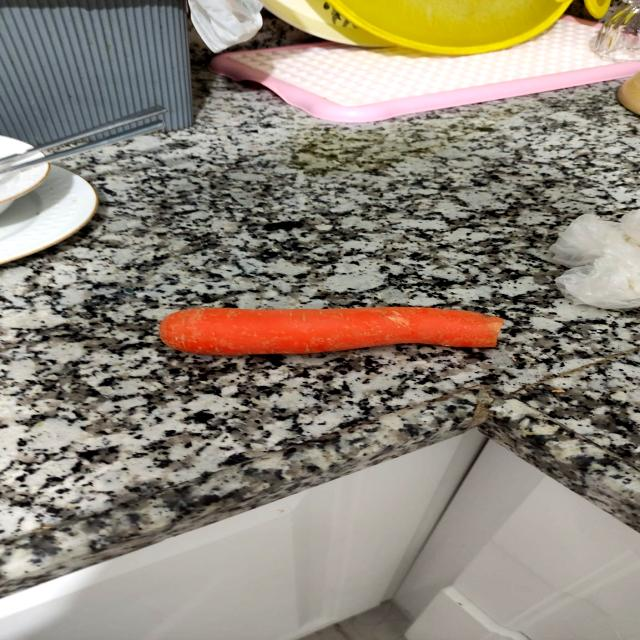carrot: (137, 287, 536, 375)
